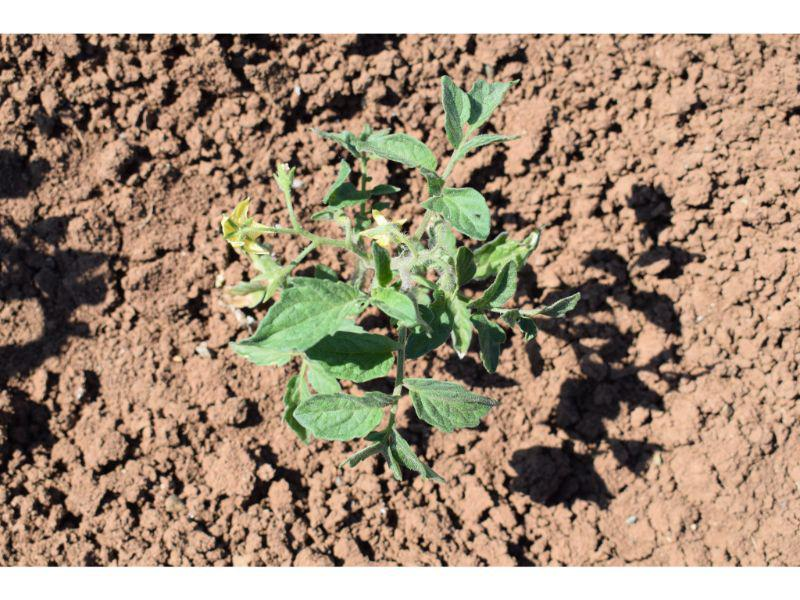tomato: (219, 74, 579, 483)
